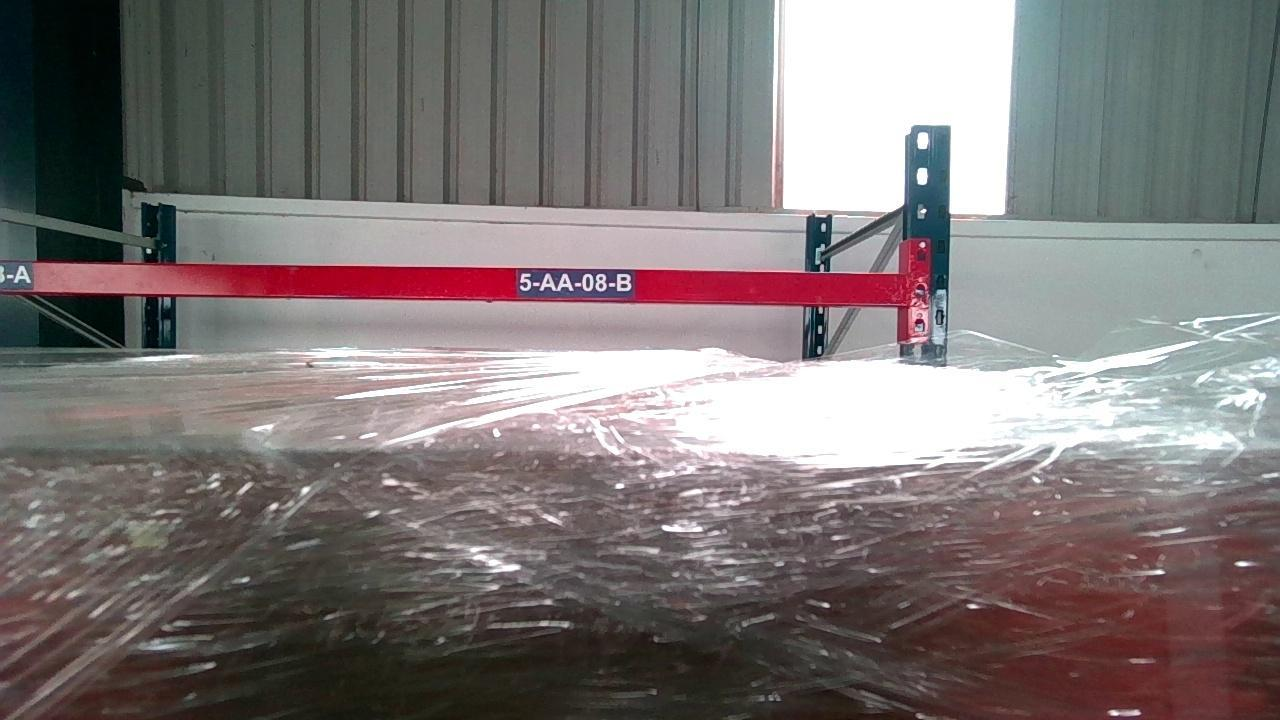h_rack: (0, 260, 907, 306)
